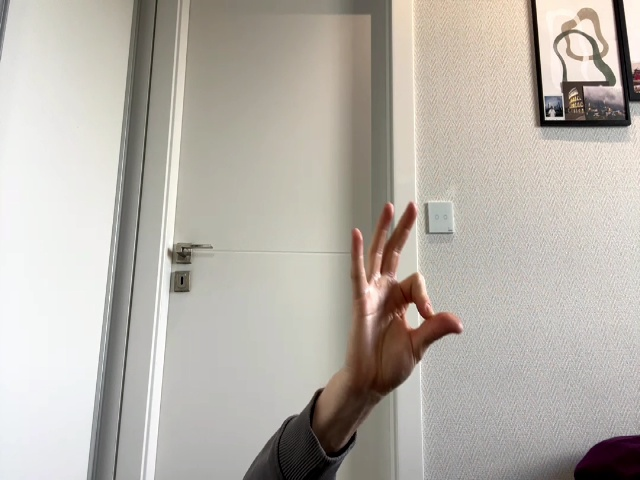S: (352, 202, 464, 376)
